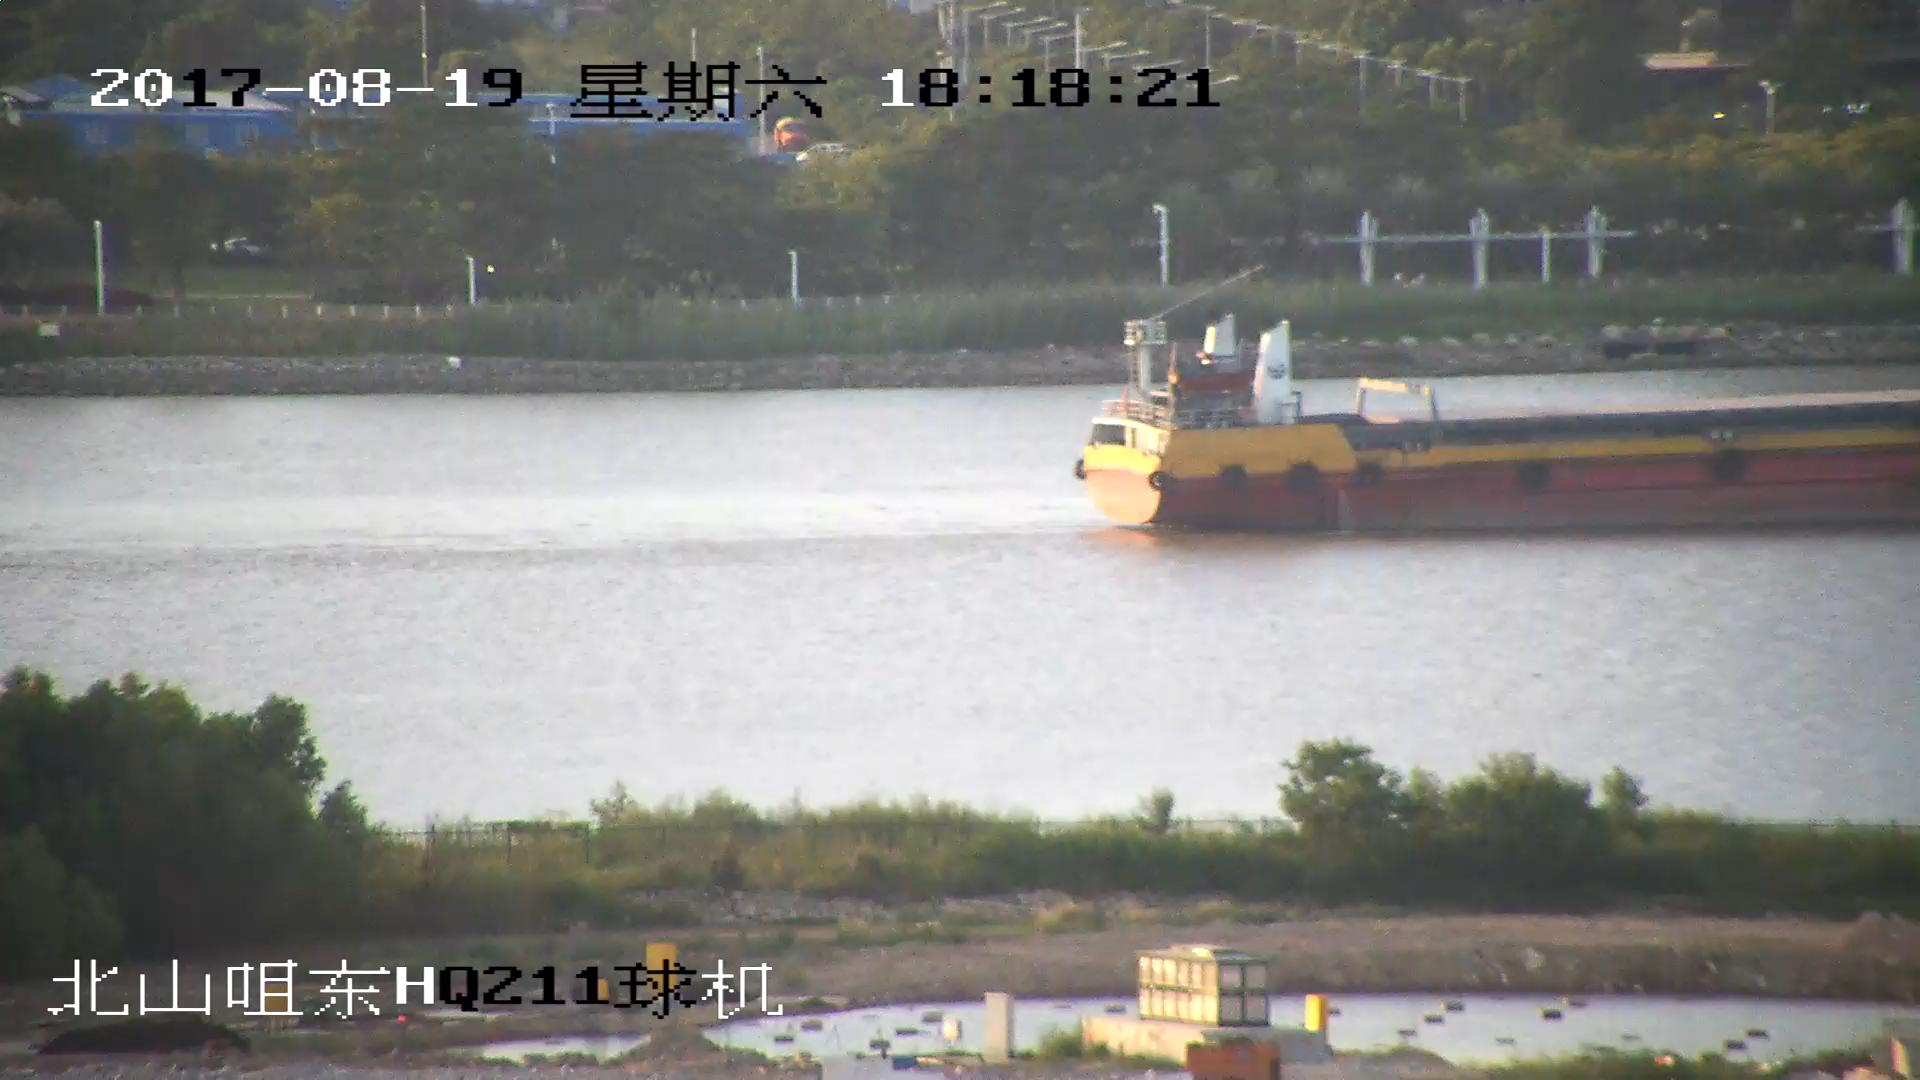general cargo ship: (1076, 315, 1920, 533)
